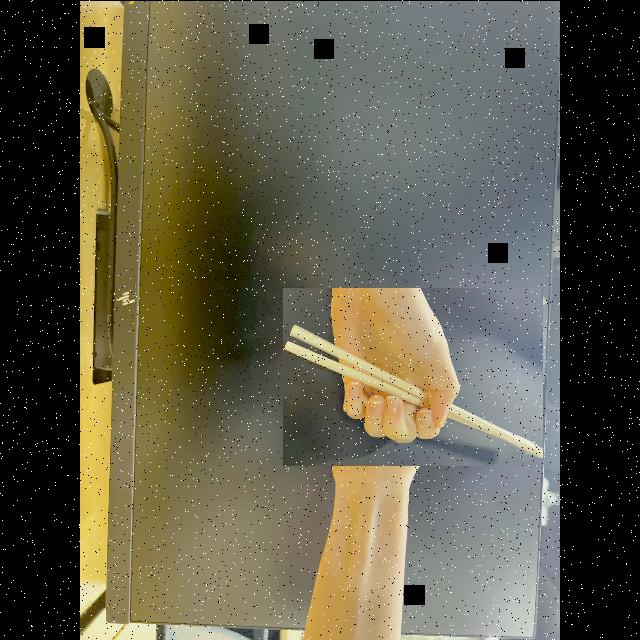stick: (283, 288, 543, 464)
